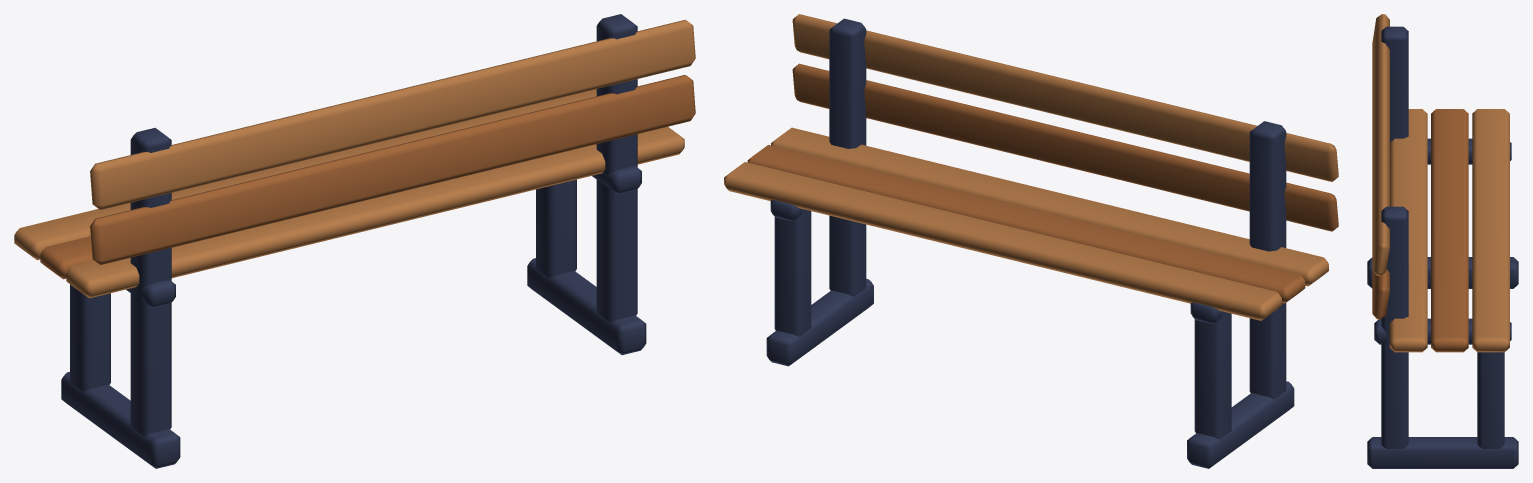
Rendered from block-prop1.glb.
3 views of the same model, side by side, from view 1: azimuth 30°, elevation 25°; view 2: azimuth 150°, elevation 25°; view 3: azimuth 270°, elevation 25° (orthographic). The views are drawn at different scales.
Parts seen in each view (by area): view 1: block-prop1; view 2: block-prop1; view 3: block-prop1.
Boxes of the visible parts, x1=… form: block-prop1: x1=14, y1=14, x2=695, y2=468; block-prop1: x1=724, y1=14, x2=1338, y2=468; block-prop1: x1=1367, y1=14, x2=1518, y2=468.
Size of the model in its own units: 1.6 by 0.82 by 0.44.
